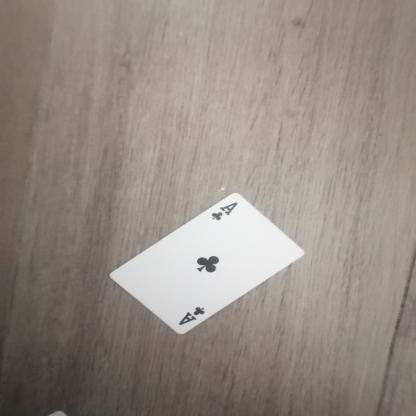AC: (172, 296, 215, 326), (203, 198, 246, 224)
